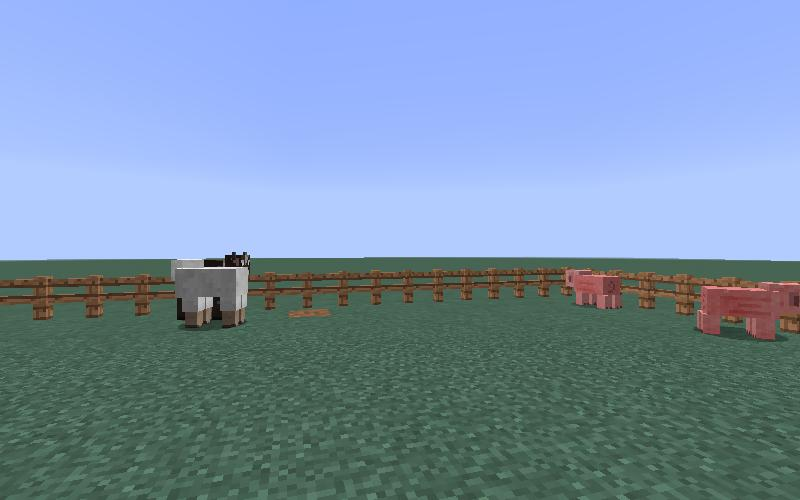pig: (693, 274, 800, 345), (560, 263, 627, 318)
sheep: (165, 256, 251, 333)
